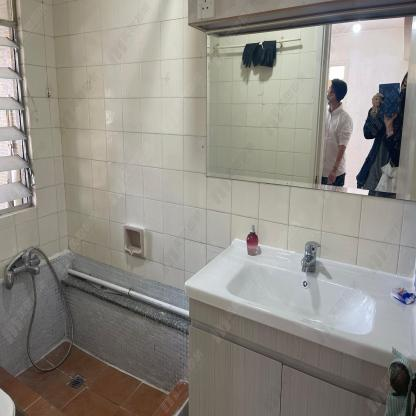Toilet Sink: (184, 236, 415, 373)
